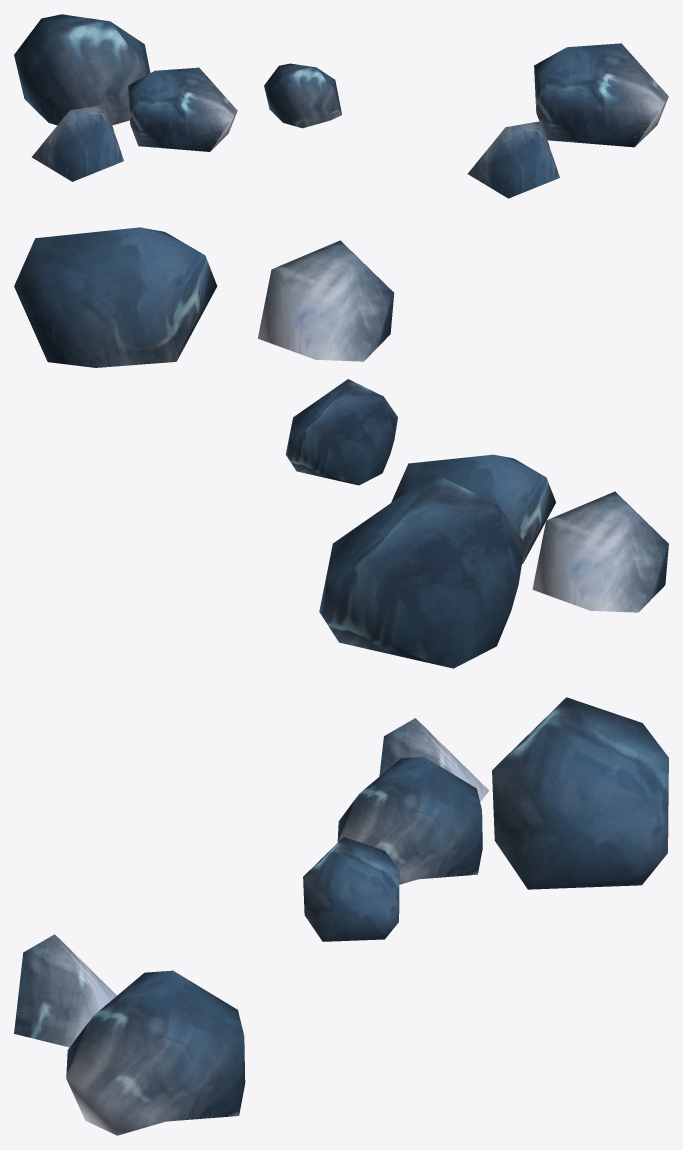
File: Ice_stone10.FBX
3 renders of one model, top to bottom at view 1: azimuth 30°, elevation 25°; view 2: azimuth 150°, elevation 25°; view 3: azimuth 270°, elevation 25°, orthographic. The views are drawn at different scales.
Parts seen in each view (by area): view 1: stone008; view 2: stone008; view 3: stone008.
Part boxes in pixels (x1,y1,x2,y2): stone008: [14, 14, 668, 198]; stone008: [14, 227, 668, 668]; stone008: [14, 697, 668, 1135].
Bounding box in the file's own units: 278 × 50.27 × 215.
